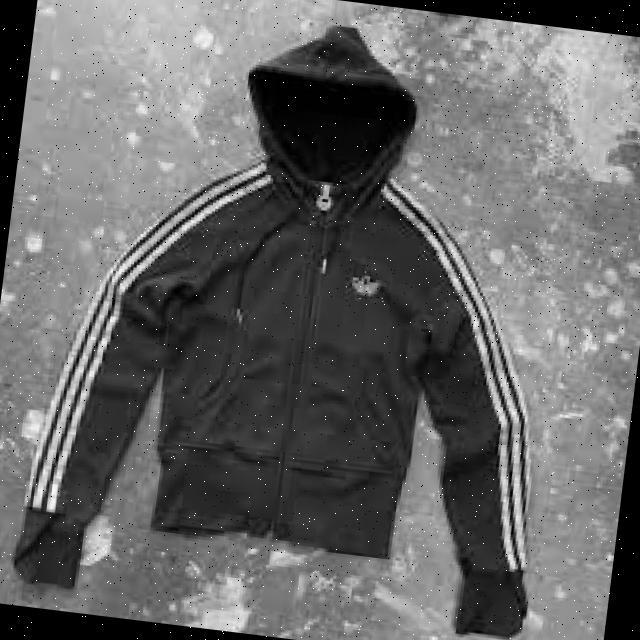Adidas: (336, 258, 395, 307)
